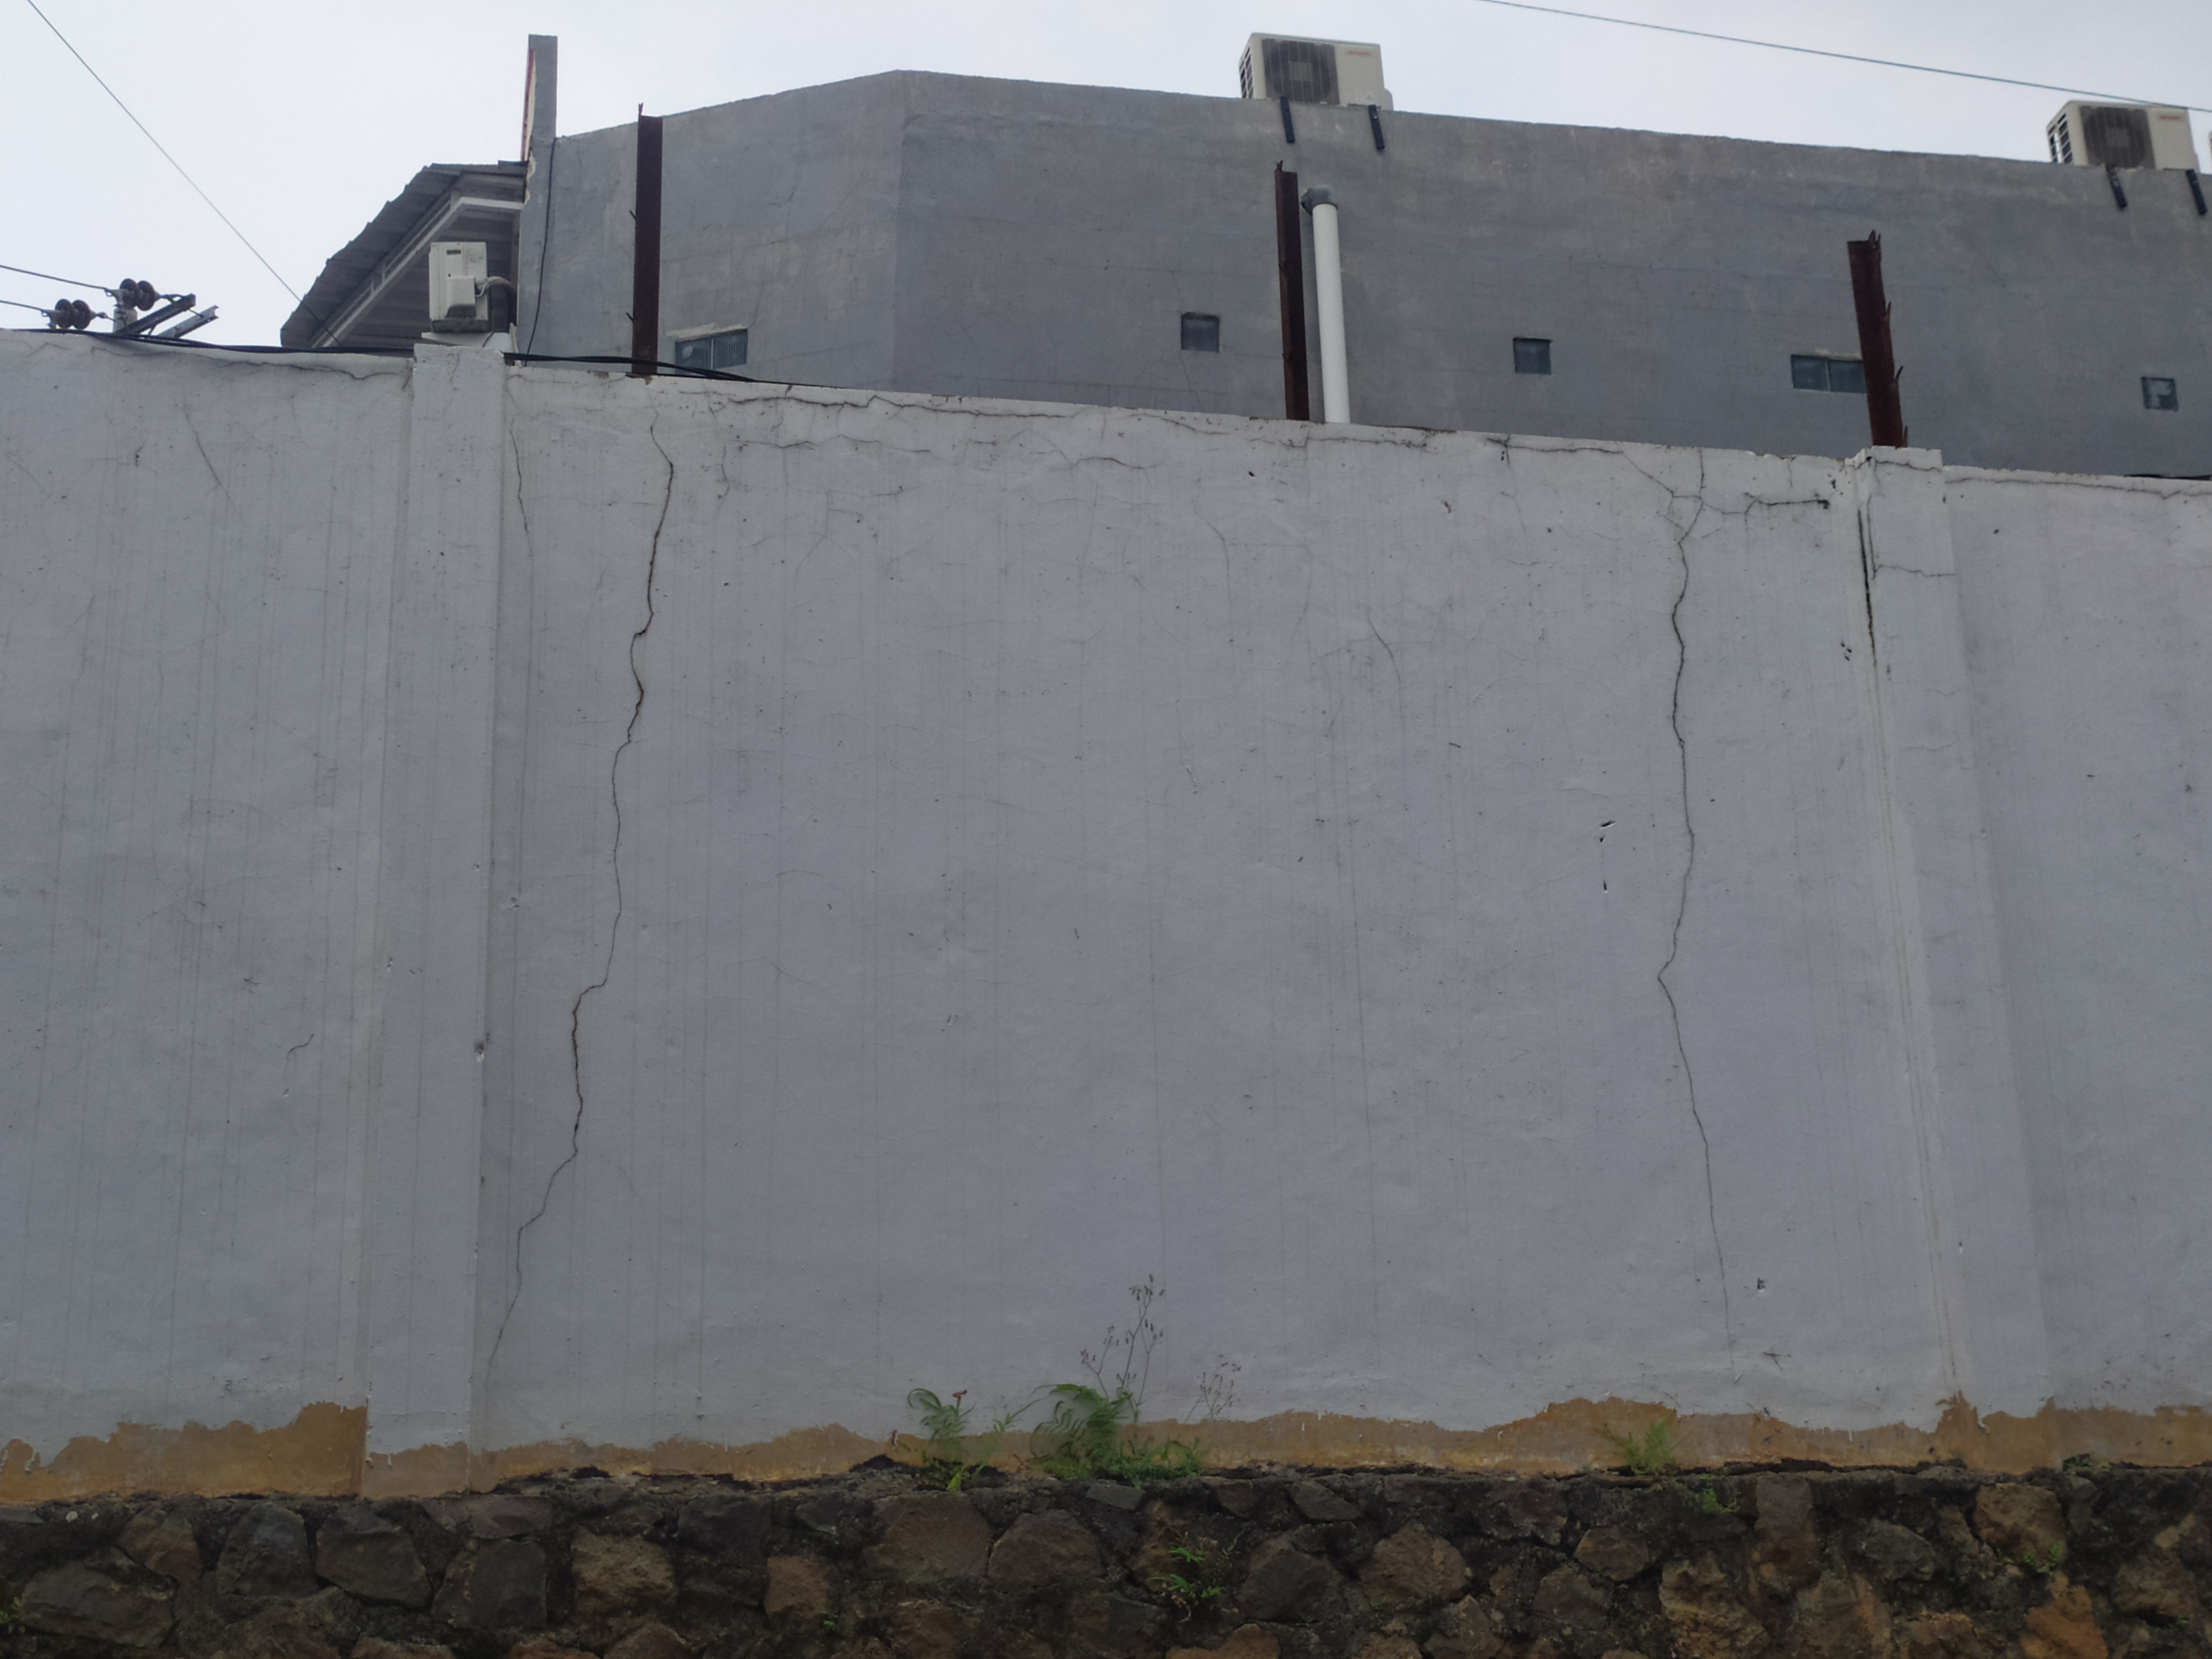concrete column: (361, 335, 517, 1439)
crack: (1480, 429, 1841, 1359), (474, 408, 688, 1387), (721, 383, 1085, 422), (1858, 457, 1959, 584), (503, 371, 545, 540)
